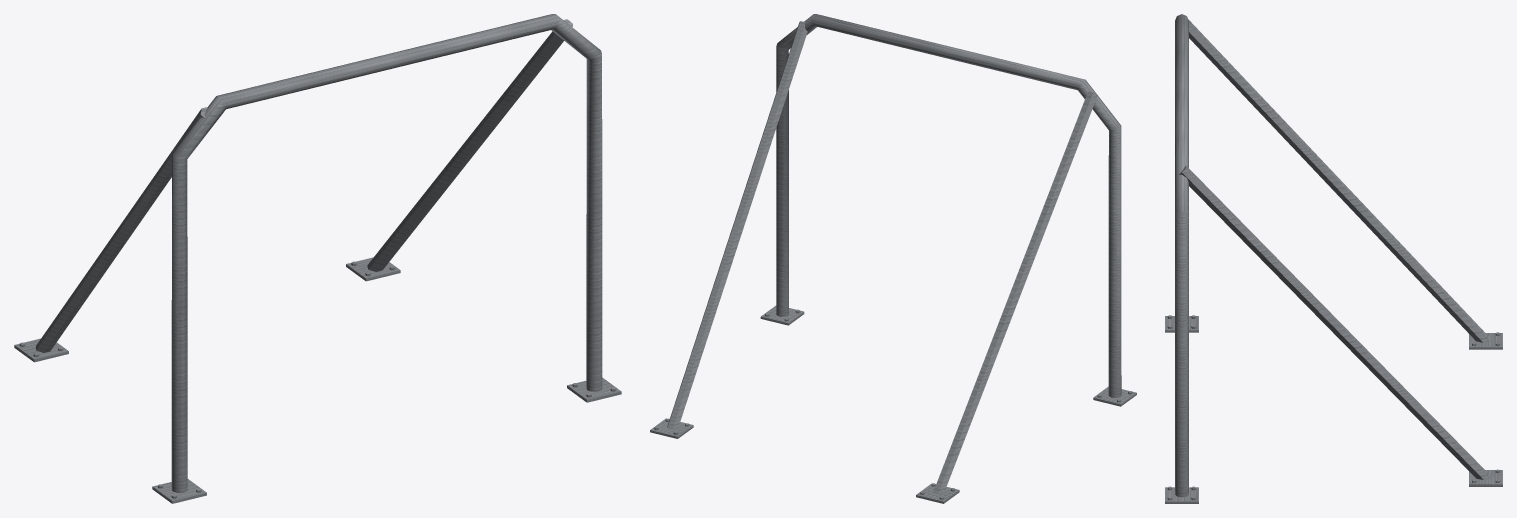
Rendered from gaiola_n1.glb.
The picture shows the model from 3 angles, left to right: view 1: azimuth 30°, elevation 25°; view 2: azimuth 150°, elevation 25°; view 3: azimuth 270°, elevation 25°; orthographic projection. The views are drawn at different scales.
Parts seen in each view (by area): view 1: gaiola_n1; view 2: gaiola_n1; view 3: gaiola_n1.
Part boxes in pixels (<box>): gaiola_n1: <box>14,14,621,503</box>; gaiola_n1: <box>650,14,1136,503</box>; gaiola_n1: <box>1165,14,1502,503</box>.
Size of the model in its own units: 1.3 by 1.08 by 1.
Materials: 1 (1 with a texture image).
